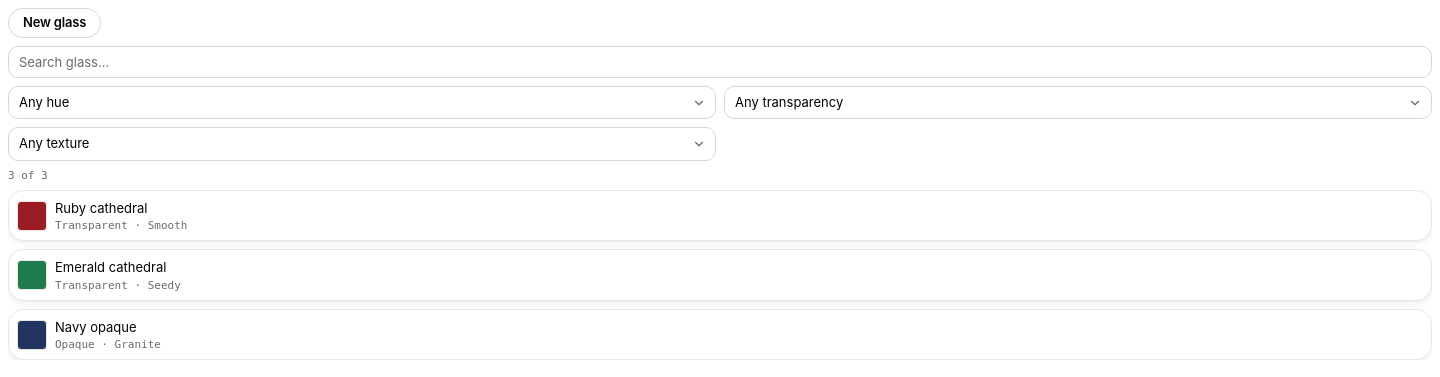
Test case: GlassPalette (F-022) › filters by free-text search (FR-3)
This screenshot has width=1440, height=377.
Type "ruby" into the field with placeholder "Search glass…".
click(720, 62); type("ruby")  # box [8, 46, 1432, 78]
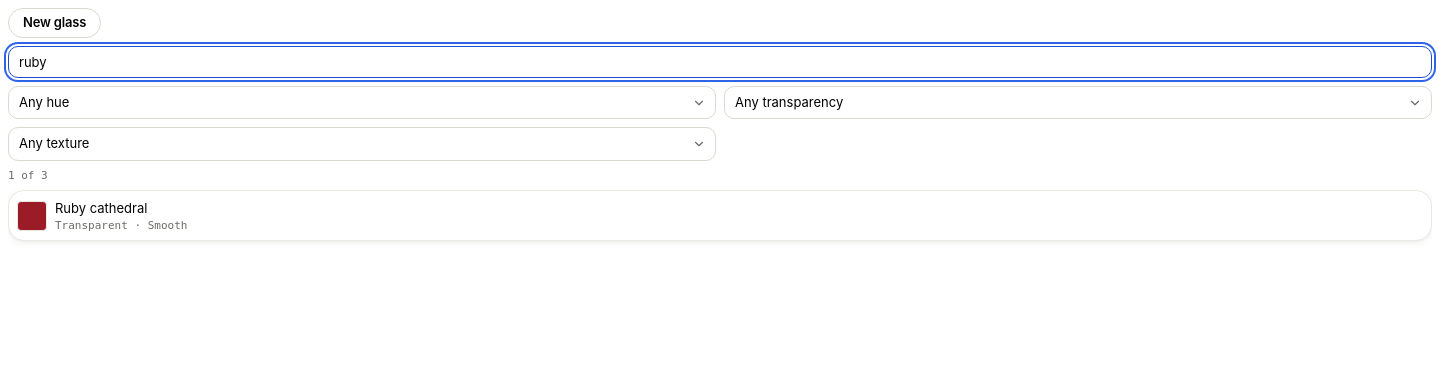
Expected: the text "Ruby cathedral" is shown, [55, 200, 147, 216]
Result: the text with test id "glass-count" reads "1 of 3" at [8, 169, 48, 182]
Result: the button "Emerald cathedral" is gone
